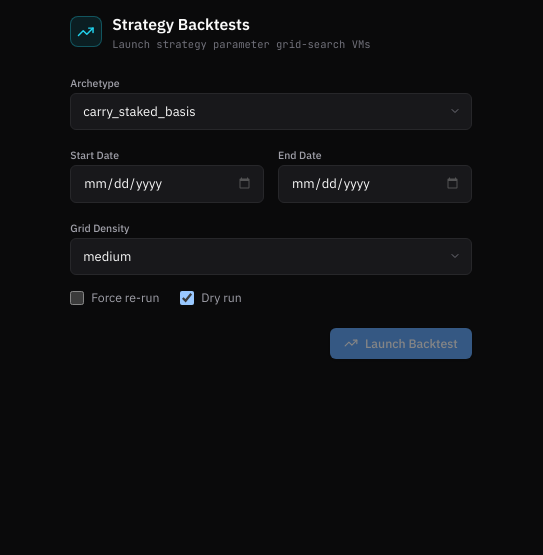
Scenario: StrategyBacktests › shows DRY RUN badge when result.dry_run is true
The width and height of the screenshot is (543, 555).
In the date field with test id "start-date-input": (167, 184) top-left (70, 165), bottom-right (264, 202), type "2026-01-01"
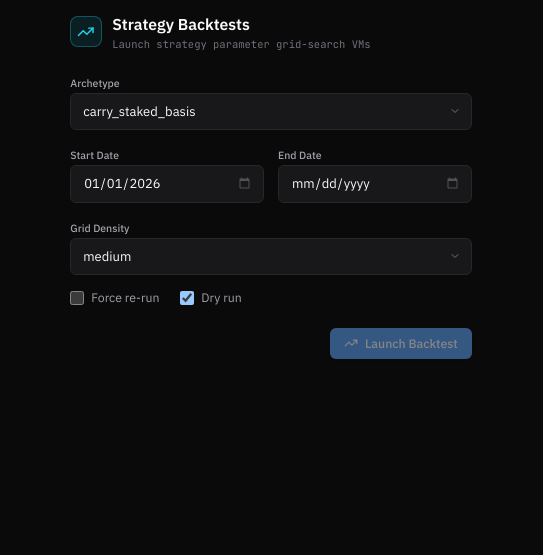
In the date field with test id "end-date-input": (375, 184) top-left (278, 165), bottom-right (472, 202), type "2026-03-31"
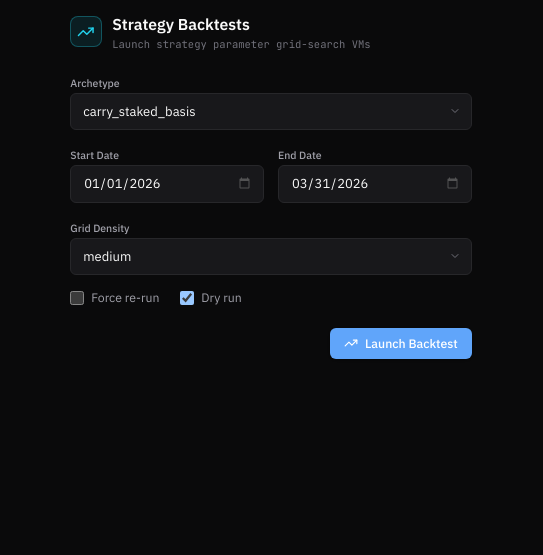
Click the button with test id "launch-button": click(401, 343) top-left (330, 328), bottom-right (472, 359)
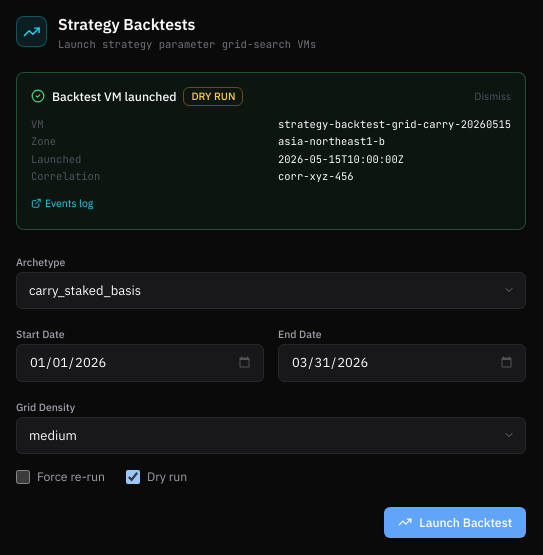
Expected: the text "DRY RUN" is shown, top-left (183, 86), bottom-right (243, 106)
